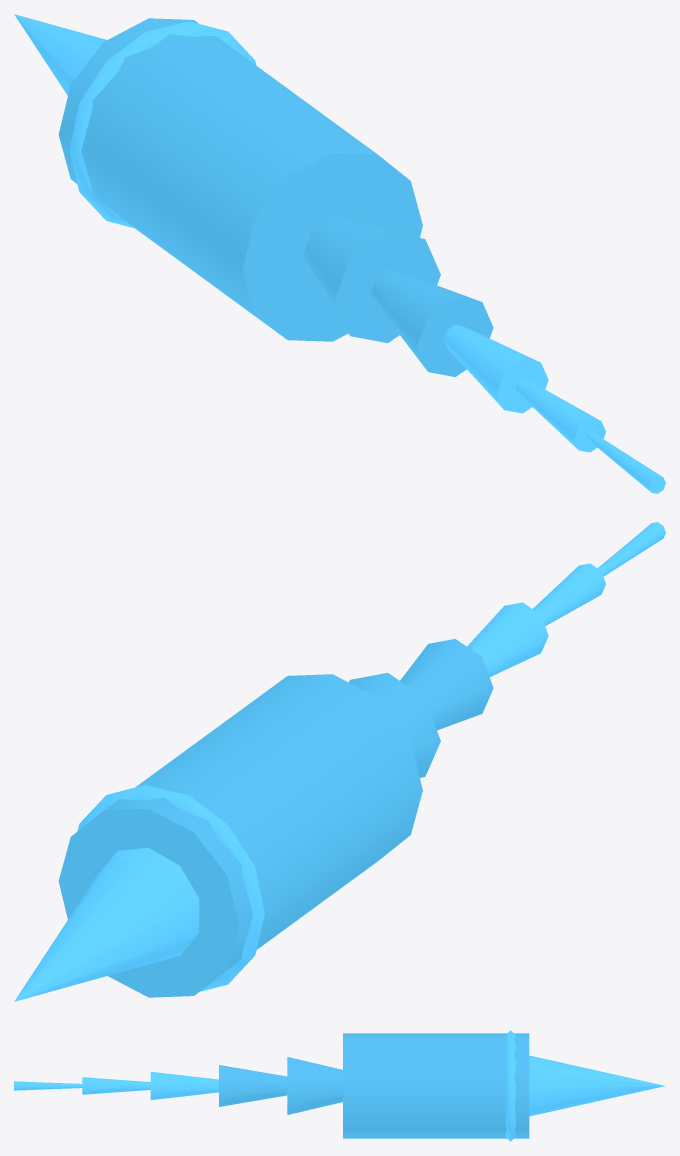
The model's file is pulse_bolt.glb.
The picture shows the model from 3 angles, top to bottom: view 1: azimuth 30°, elevation 25°; view 2: azimuth 150°, elevation 25°; view 3: azimuth 270°, elevation 25°; orthographic projection. The views are drawn at different scales.
Parts seen in each view (by area): view 1: Bolt, Trail; view 2: Bolt, Trail; view 3: Bolt, Trail.
Boxes of the visible parts, x1=… form: Bolt: x1=14, y1=14, x2=422, y2=341; Trail: x1=303, y1=217, x2=665, y2=493; Bolt: x1=14, y1=674, x2=422, y2=1001; Trail: x1=349, y1=522, x2=665, y2=777; Bolt: x1=343, y1=1030, x2=664, y2=1141; Trail: x1=14, y1=1057, x2=342, y2=1114.
Size of the model in its own units: 0.2103 by 0.205 by 1.2.
